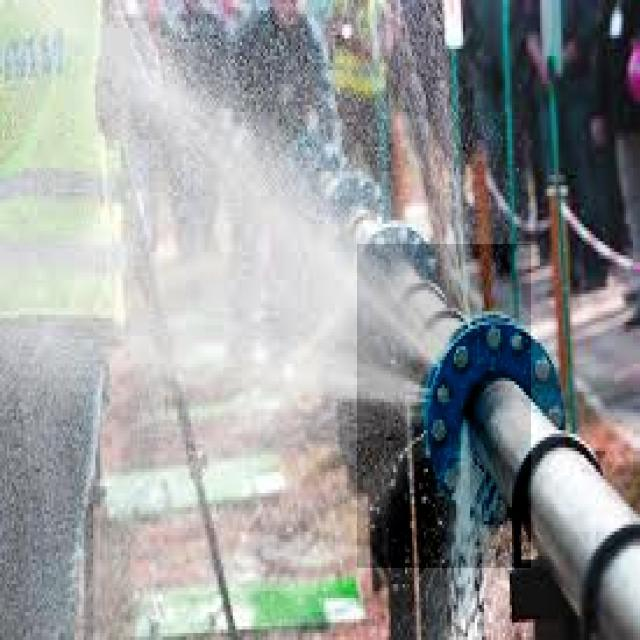corrosion: (181, 168, 490, 488)
